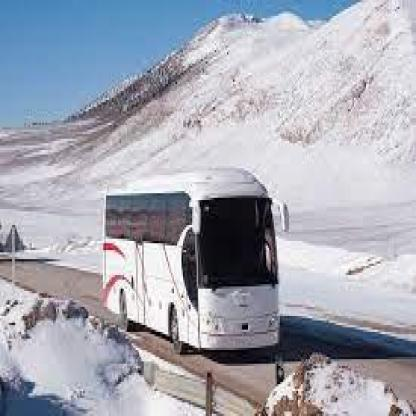Bus: (100, 164, 290, 354)
